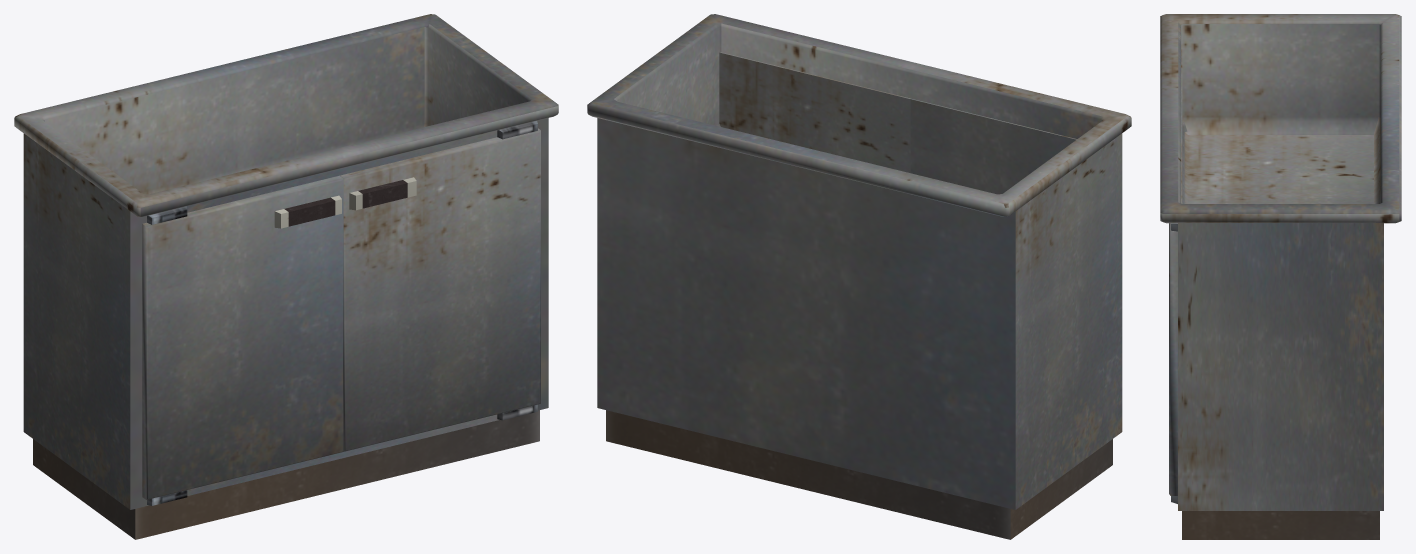
Rendered from pub_sink02.fbx.
3 renders of one model, left to right at view 1: azimuth 30°, elevation 25°; view 2: azimuth 150°, elevation 25°; view 3: azimuth 270°, elevation 25°, orthographic. The views are drawn at different scales.
Visible parts, largest first — view 1: pub_sink02; view 2: pub_sink02; view 3: pub_sink02.
Part boxes in pixels (x1=…): pub_sink02: x1=14, y1=14, x2=558, y2=539; pub_sink02: x1=587, y1=14, x2=1131, y2=539; pub_sink02: x1=1160, y1=14, x2=1401, y2=539.
Bounding box in the file's own units: 121 × 94.71 × 62.4.
